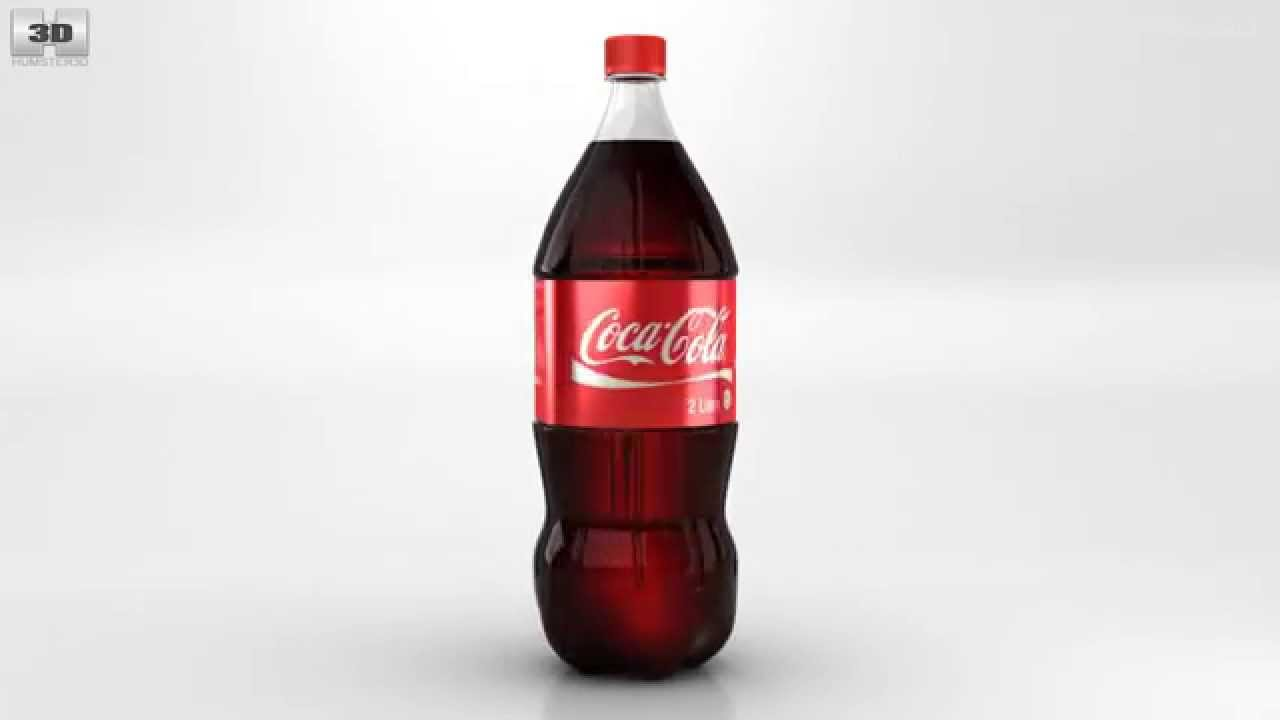coke: (535, 26, 739, 682)
